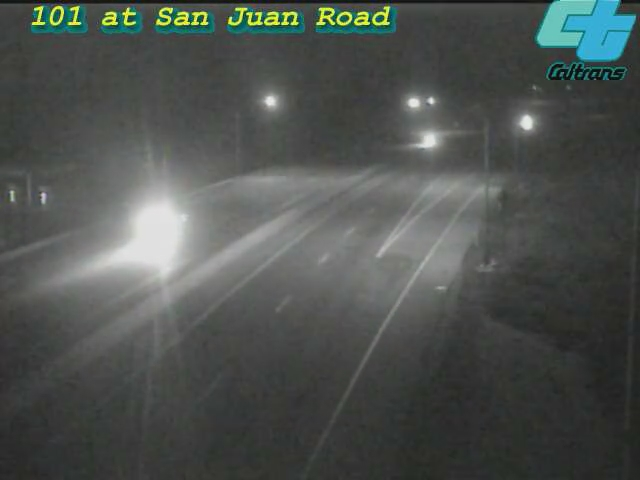vehicle: (124, 184, 204, 264), (404, 116, 454, 166), (499, 98, 549, 148)
